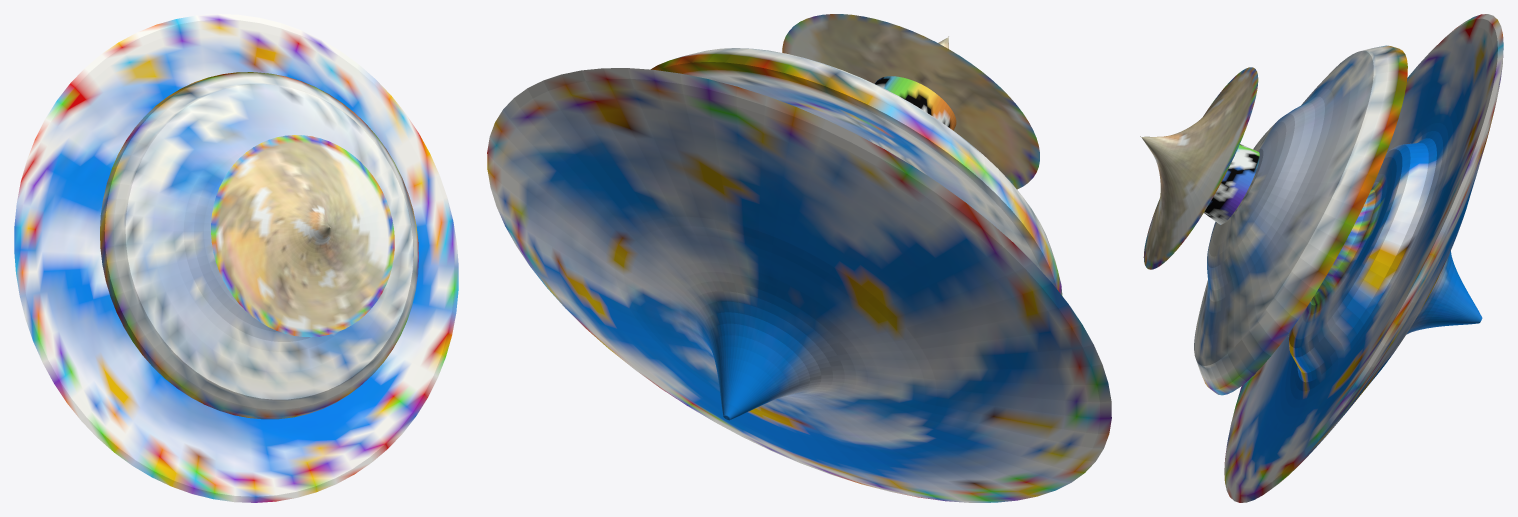
Rendered from april28outdoorpagoda8.glb.
3 views of the same model, side by side, from view 1: azimuth 30°, elevation 25°; view 2: azimuth 150°, elevation 25°; view 3: azimuth 270°, elevation 25° (orthographic). The views are drawn at different scales.
Visible parts, largest first — view 1: Lathe 4, Lathe 3, Lathe; view 2: Lathe 4, Lathe 3, Lathe, Lathe.001; view 3: Lathe 4, Lathe 3, Lathe, Lathe.001.
Part boxes in pixels (box(x1,y1,x2,y2)): Lathe 4: box(14, 14, 458, 502); Lathe 3: box(100, 72, 418, 419); Lathe: box(211, 135, 394, 337); Lathe 4: box(487, 68, 1111, 502); Lathe 3: box(650, 48, 1062, 295); Lathe: box(782, 14, 1039, 189); Lathe.001: box(875, 76, 956, 130); Lathe 4: box(1224, 14, 1503, 502); Lathe 3: box(1194, 45, 1407, 395); Lathe: box(1140, 67, 1258, 269); Lathe.001: box(1204, 144, 1259, 224).
Bounding box in the file's own units: 3.74 × 3.22 × 2.47.
